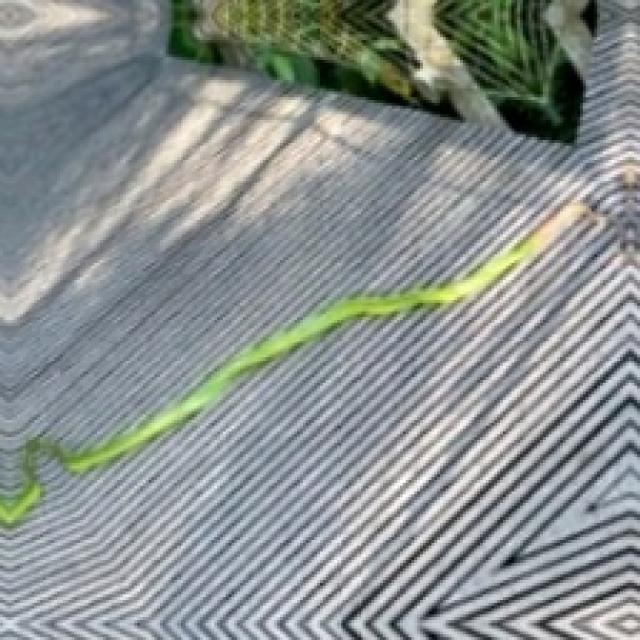red-tailed green ratsnake: (0, 202, 590, 527), (171, 0, 451, 111), (431, 0, 591, 140)
